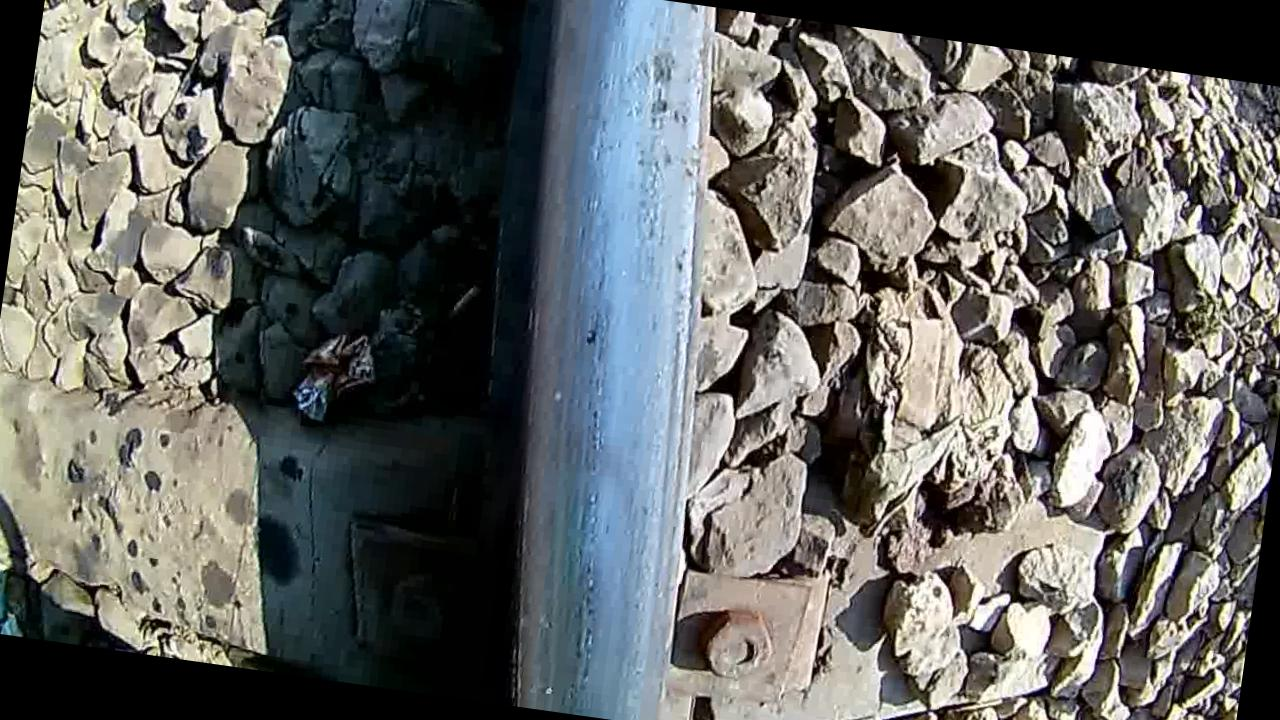crack: (461, 0, 745, 720)
